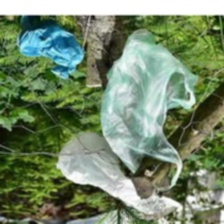plastic_bag: (93, 26, 203, 194), (54, 127, 183, 217), (9, 12, 89, 83)
